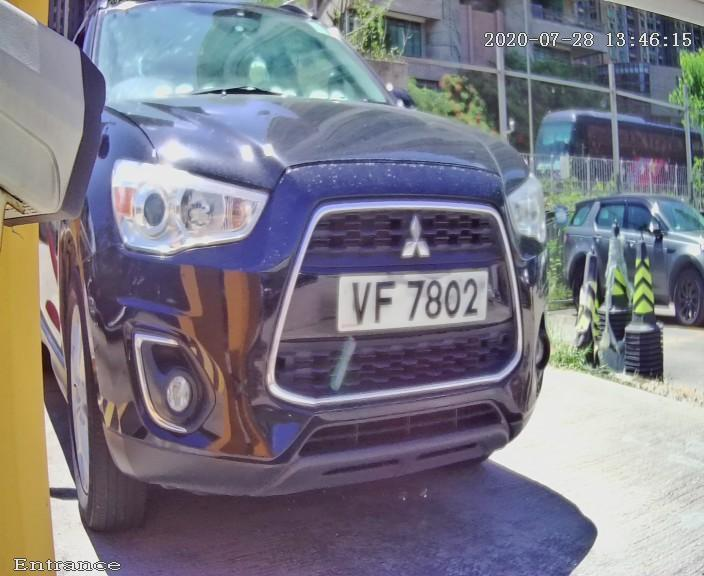privatecar: (23, 13, 632, 564)
